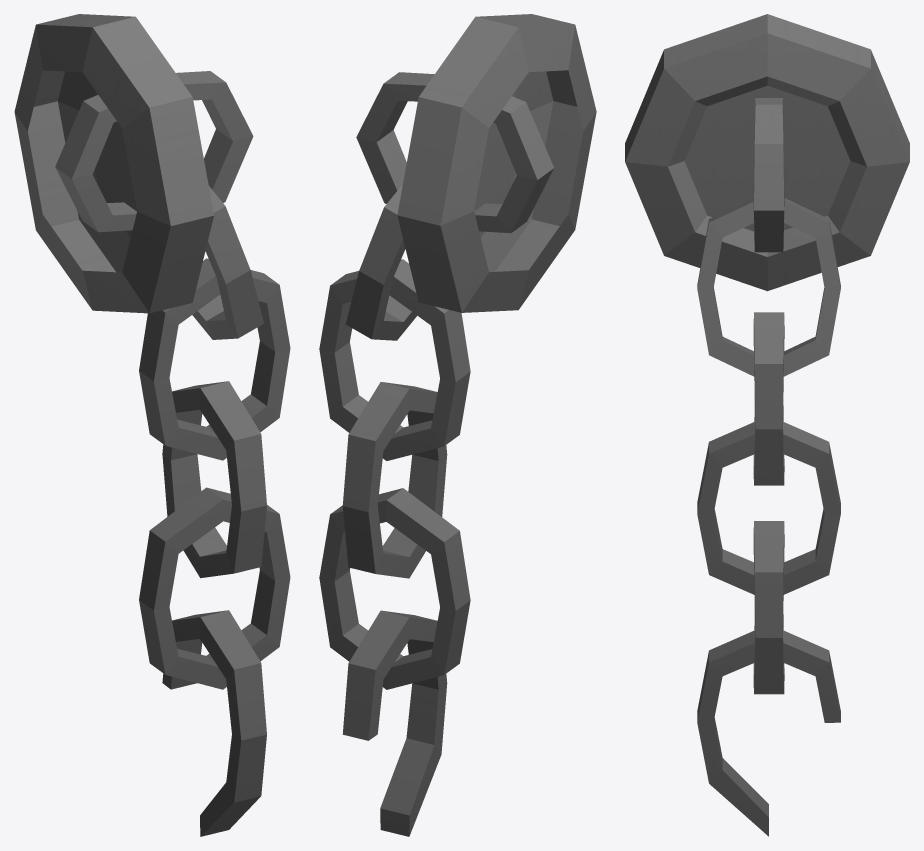
File: cadena rota.fbx
3 views of the same model, side by side, from view 1: azimuth 30°, elevation 25°; view 2: azimuth 150°, elevation 25°; view 3: azimuth 270°, elevation 25° (orthographic). The views are drawn at different scales.
Visible parts, largest first — view 1: Cadena Rota; view 2: Cadena Rota; view 3: Cadena Rota.
Part boxes in pixels (<box>): Cadena Rota: <box>14,14,290,836</box>; Cadena Rota: <box>319,14,596,836</box>; Cadena Rota: <box>625,14,909,836</box>.
Size of the model in its own units: 108 by 392 by 133.
